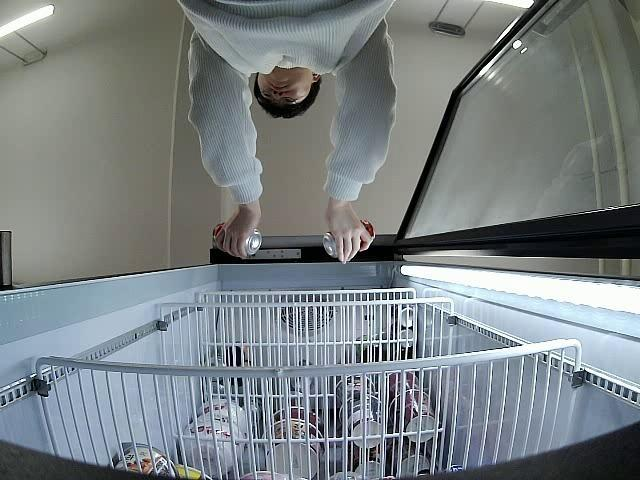11_cocaColaZero: (324, 217, 375, 258), (213, 222, 262, 256)
